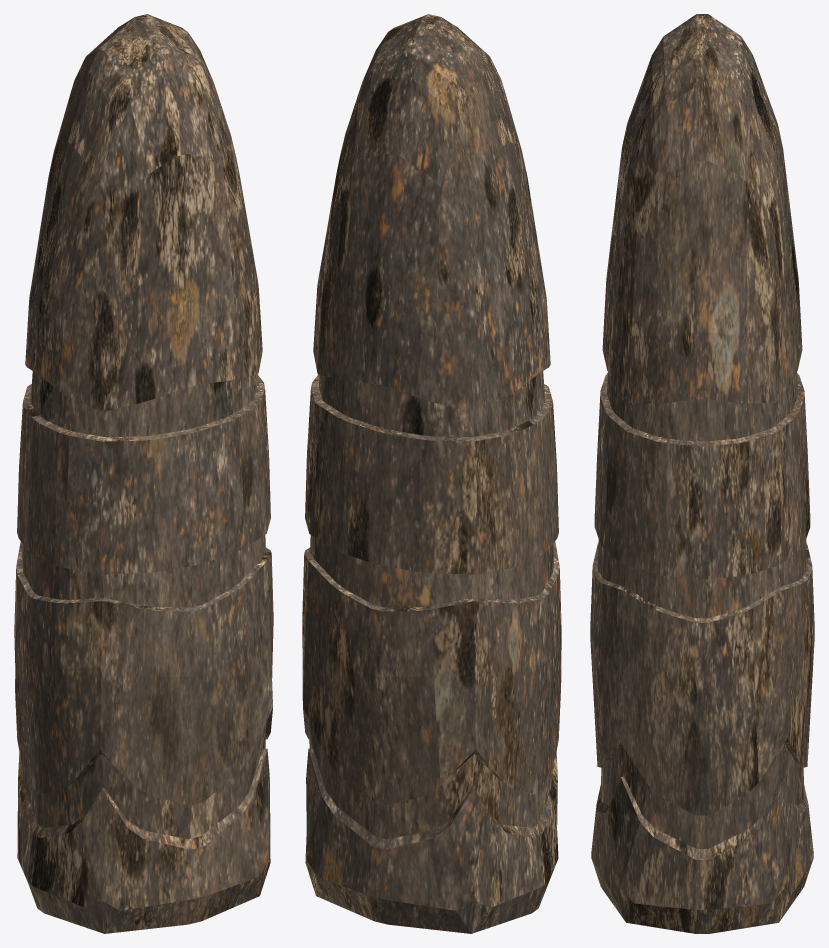
Rendered from monolito.fbx.
The picture shows the model from 3 angles, left to right: view 1: azimuth 30°, elevation 25°; view 2: azimuth 150°, elevation 25°; view 3: azimuth 270°, elevation 25°; orthographic projection.
Parts seen in each view (by area): view 1: Cube; view 2: Cube; view 3: Cube.
Boxes of the visible parts, box(x1,y1,x2,y2) form: Cube: box(14, 14, 273, 933); Cube: box(302, 14, 561, 933); Cube: box(590, 14, 814, 933).
Bounding box in the file's own units: 229 × 834 × 196.
